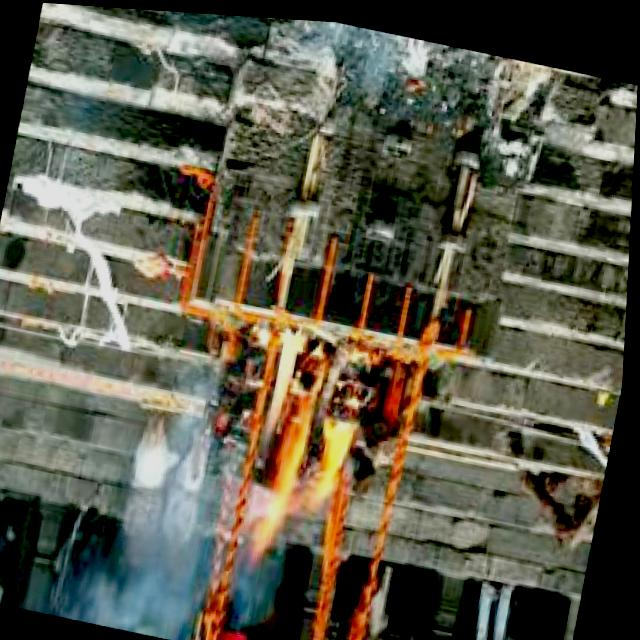helmet: (244, 320, 376, 548)
